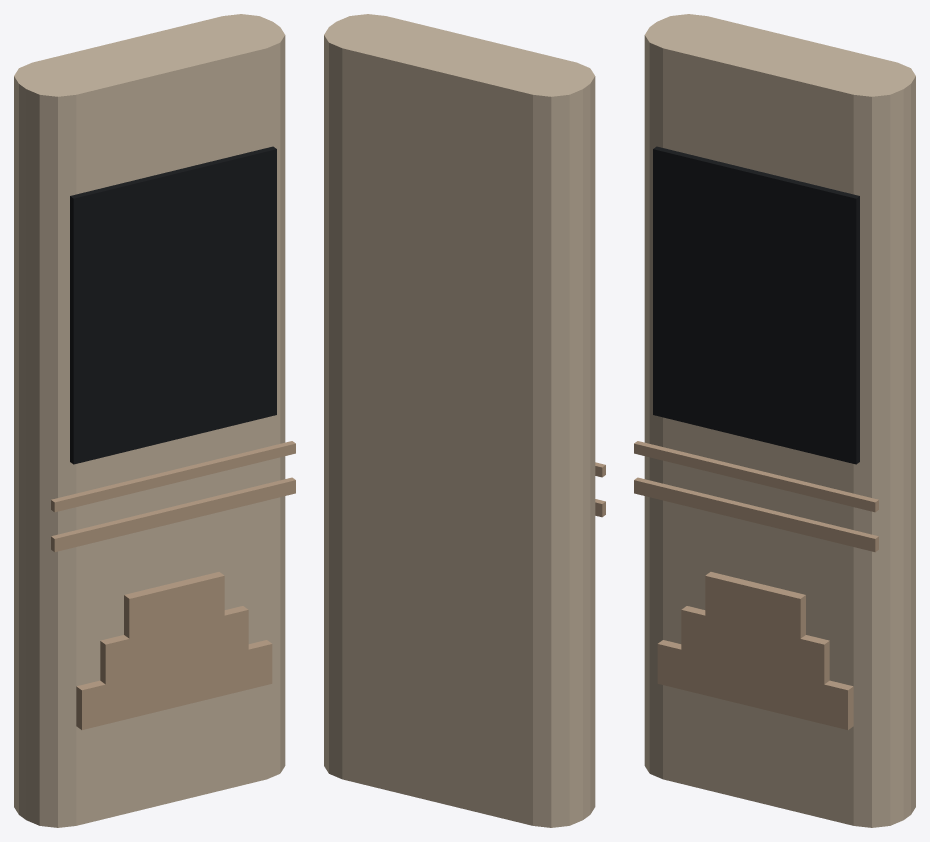
The model's file is city_sign.glb.
3 views of the same model, side by side, from view 1: azimuth 30°, elevation 25°; view 2: azimuth 150°, elevation 25°; view 3: azimuth 330°, elevation 25° (orthographic).
Parts seen in each view (by area): view 1: CitySign_Slab, CitySign_Panel, CitySign_Mesa, CitySign_Strata0, CitySign_Strata1; view 2: CitySign_Slab; view 3: CitySign_Slab, CitySign_Panel, CitySign_Mesa, CitySign_Strata0, CitySign_Strata1.
Boxes of the visible parts, box(x1,y1,x2,y2) form: CitySign_Slab: box(14, 14, 285, 827); CitySign_Panel: box(70, 146, 276, 464); CitySign_Mesa: box(76, 572, 272, 729); CitySign_Strata0: box(51, 477, 295, 552); CitySign_Strata1: box(51, 441, 295, 512); CitySign_Slab: box(324, 14, 595, 827); CitySign_Slab: box(644, 14, 915, 827); CitySign_Panel: box(653, 146, 859, 464); CitySign_Mesa: box(657, 572, 853, 729); CitySign_Strata0: box(634, 477, 878, 552); CitySign_Strata1: box(634, 441, 878, 512).
Size of the model in its own units: 0.8 by 2.2 by 0.27.
